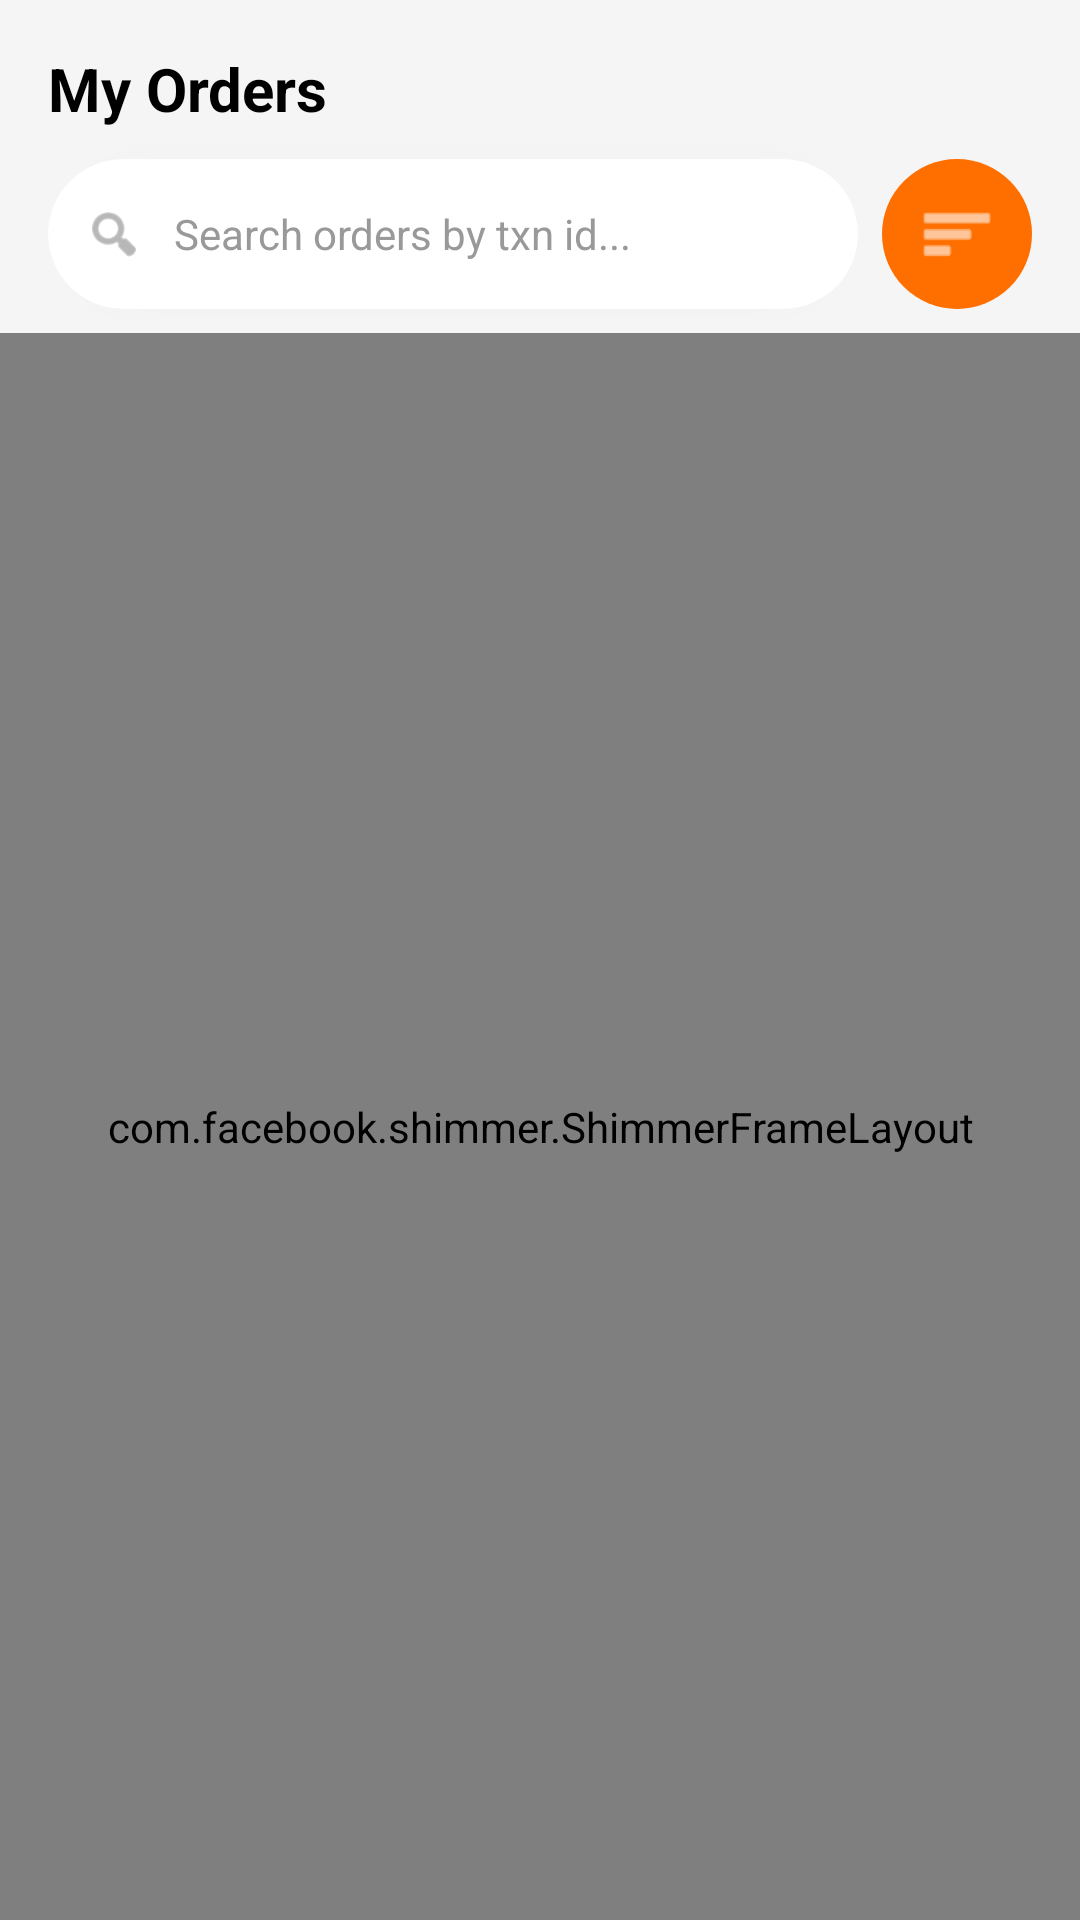

Point at icon controls on the screen. Image size 1080 x 1920, points as (x=x, y=y).
sort by size: (x=957, y=234)
